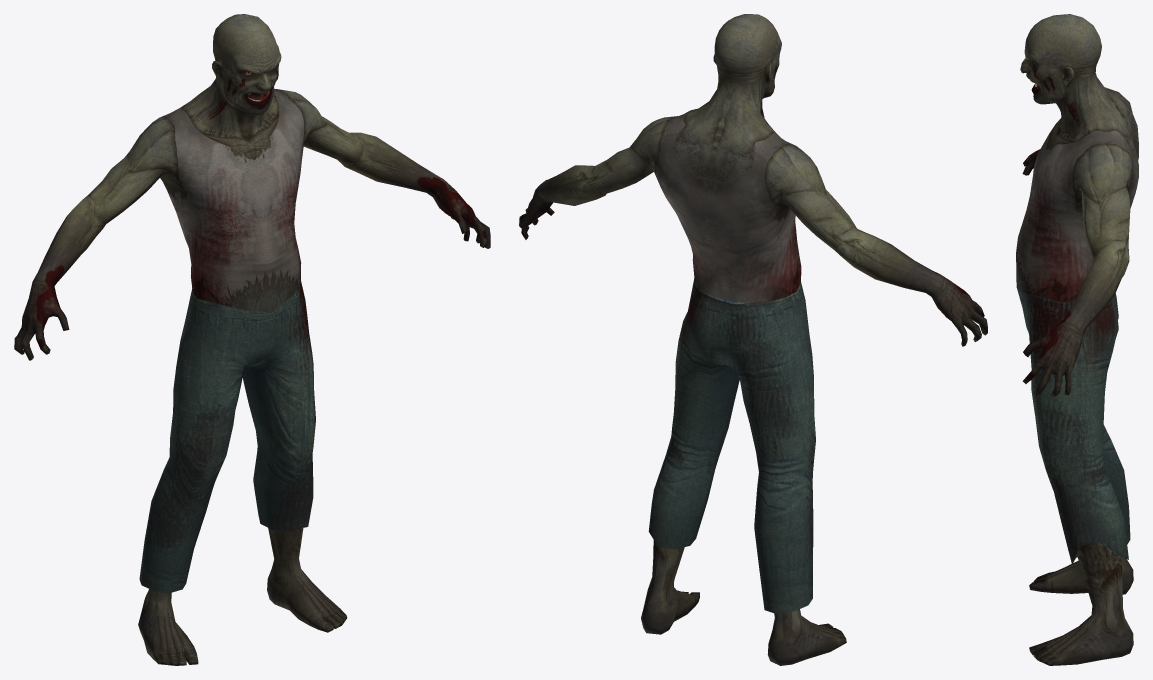
Rendered from Zombie1 (1).fbx.
3 renders of one model, left to right at view 1: azimuth 30°, elevation 25°; view 2: azimuth 150°, elevation 25°; view 3: azimuth 270°, elevation 25°, orthographic. The views are drawn at different scales.
Parts seen in each view (by area): view 1: Zombie1.002; view 2: Zombie1.002; view 3: Zombie1.002.
Boxes of the visible parts, x1,y1,x2,y2 form: Zombie1.002: (14, 14, 490, 665); Zombie1.002: (519, 14, 987, 665); Zombie1.002: (1016, 14, 1138, 665).
Size of the model in its own units: 143 by 179 by 33.08.
